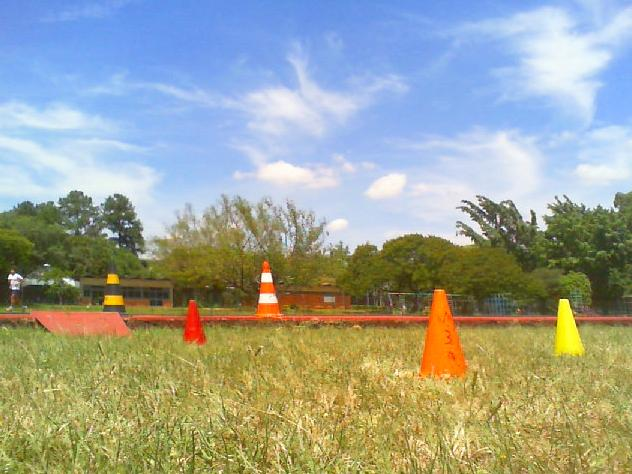0 cone: (420, 289, 465, 377), (555, 298, 584, 357), (253, 261, 283, 318), (103, 258, 129, 316), (183, 299, 208, 344)
